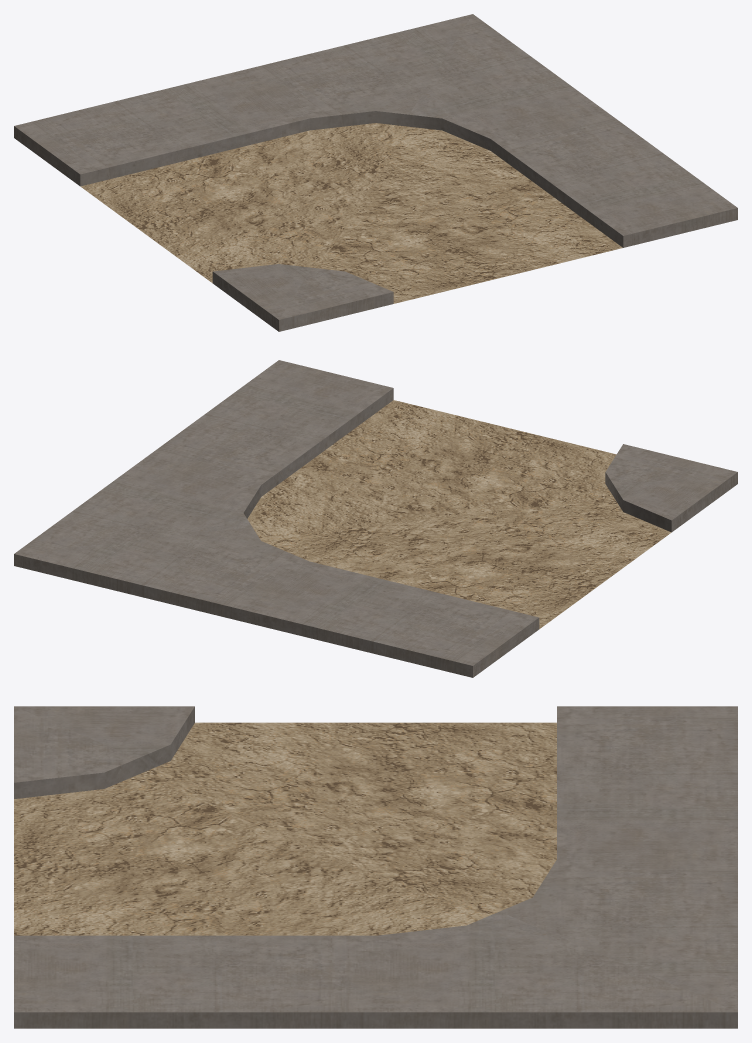
The model's file is roadDirt_corner.dae.
The picture shows the model from 3 angles, top to bottom: view 1: azimuth 30°, elevation 25°; view 2: azimuth 150°, elevation 25°; view 3: azimuth 270°, elevation 25°; orthographic projection. The views are drawn at different scales.
Parts seen in each view (by area): view 1: roadDirt_corner; view 2: roadDirt_corner; view 3: roadDirt_corner.
Part boxes in pixels (x1=…): roadDirt_corner: x1=14, y1=14, x2=737, y2=331; roadDirt_corner: x1=14, y1=360, x2=737, y2=677; roadDirt_corner: x1=14, y1=706, x2=737, y2=1028.
Bounding box in the file's own units: 2 × 0.05 × 2.
